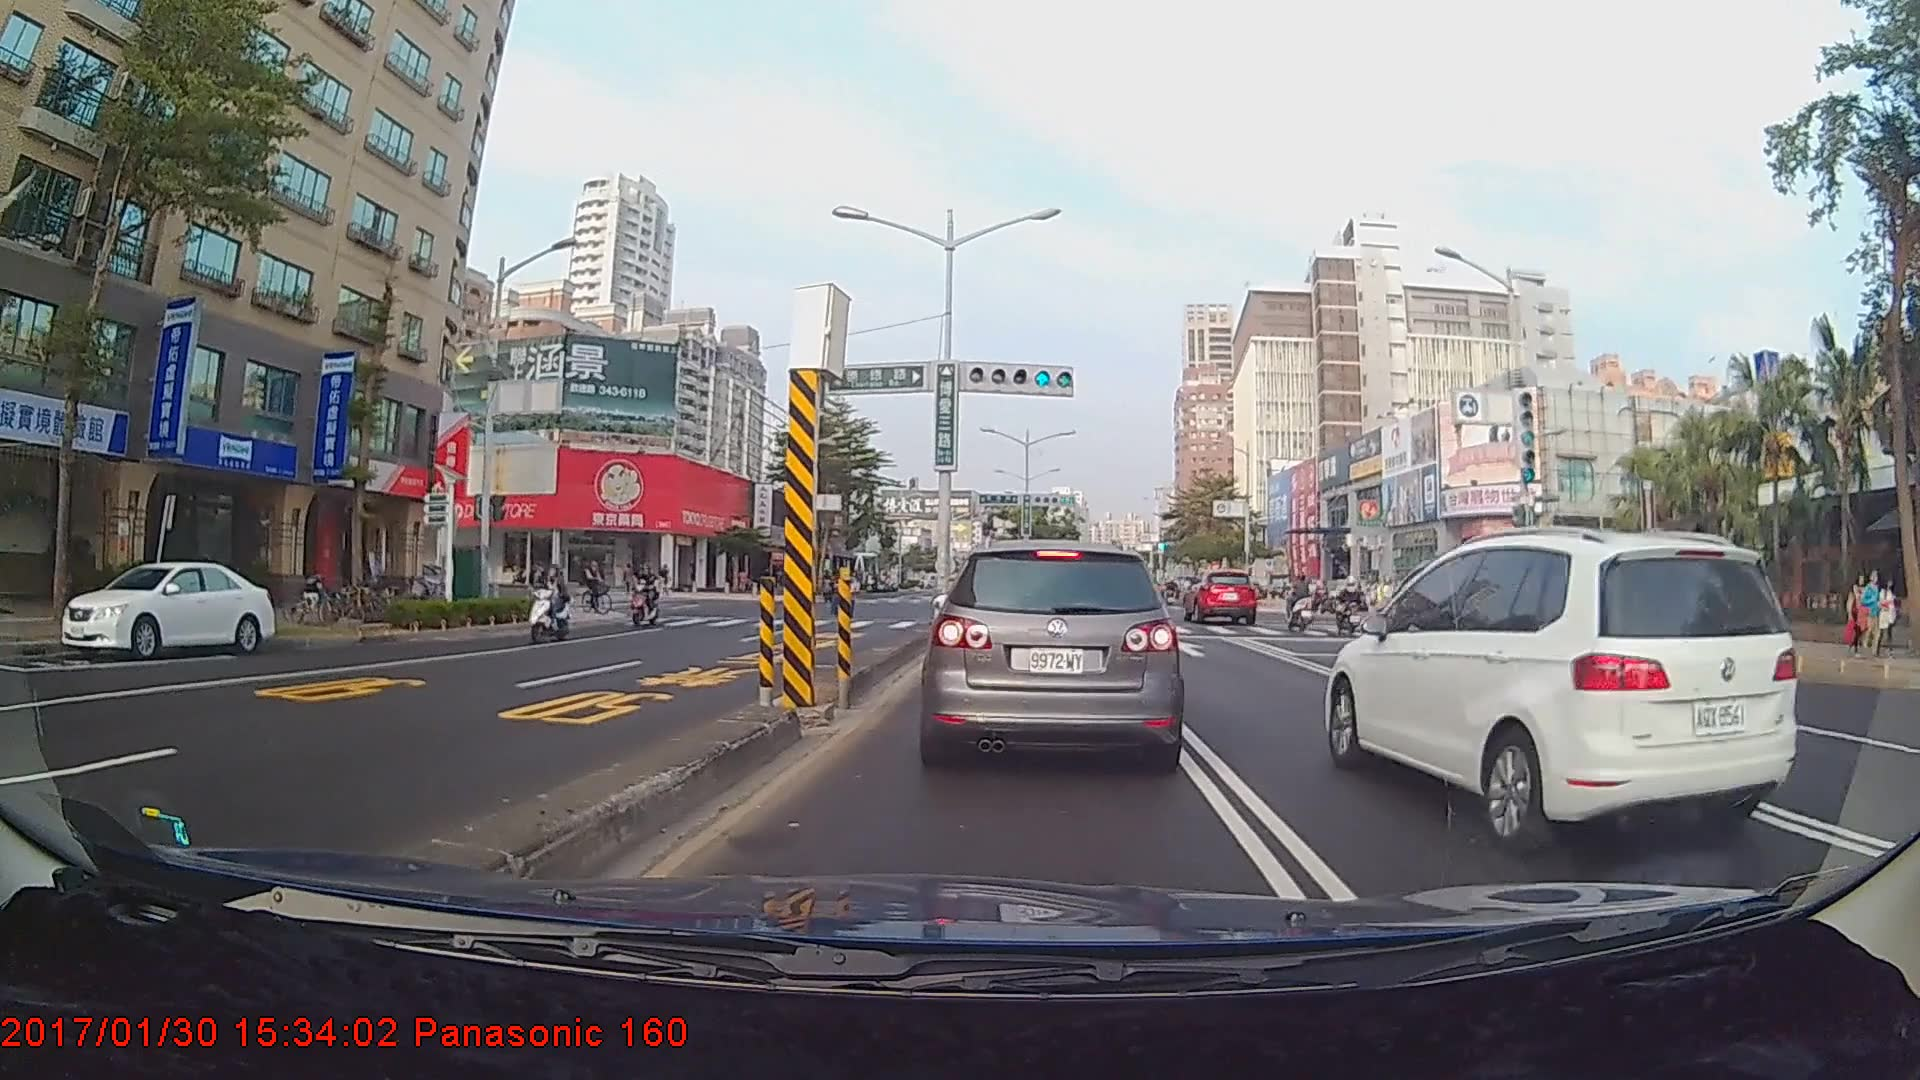pedestrian: (1857, 572, 1886, 662), (1847, 574, 1874, 658), (1876, 574, 1900, 655)
rider: (521, 561, 581, 649), (1327, 574, 1376, 632), (1281, 570, 1326, 628), (631, 568, 667, 631), (583, 555, 615, 621)
vehicle: (1320, 523, 1802, 856), (928, 537, 1182, 764), (63, 558, 269, 661), (1184, 568, 1258, 625)
